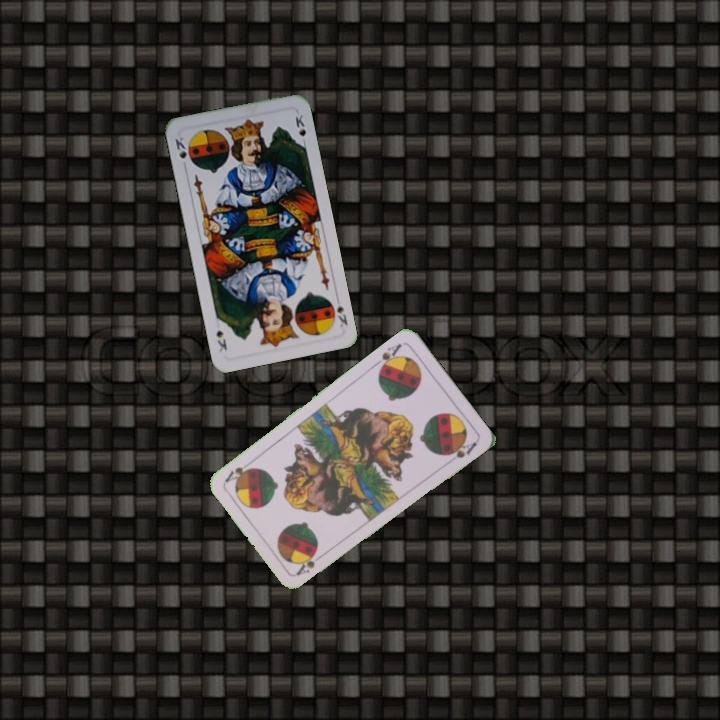SA: (371, 339, 405, 374), (292, 549, 327, 578)
SK: (171, 133, 194, 165), (333, 301, 350, 329)
